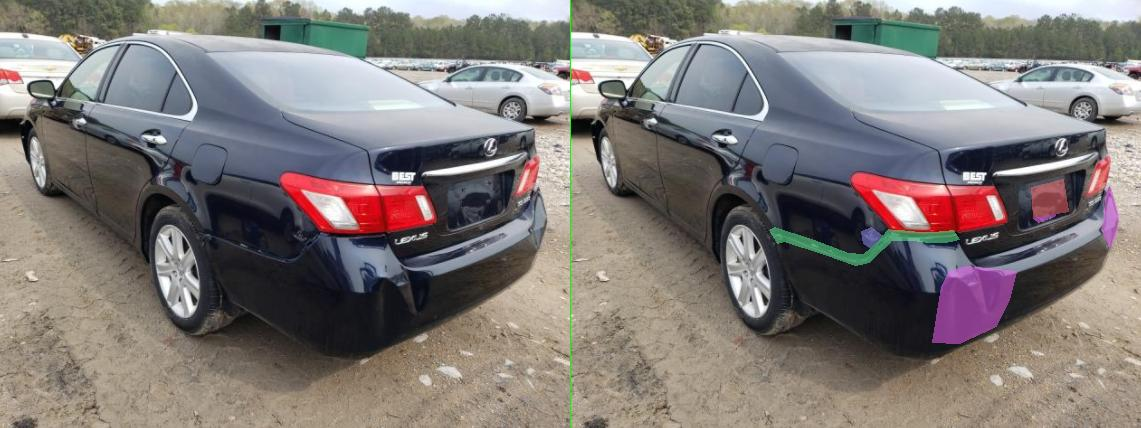Broken part: (396, 227, 649, 265), (637, 230, 777, 242)
Dent: (723, 266, 891, 343), (1063, 187, 1095, 248), (925, 193, 981, 222)
Missing part: (921, 179, 995, 217)
Scratch: (581, 227, 627, 250)
